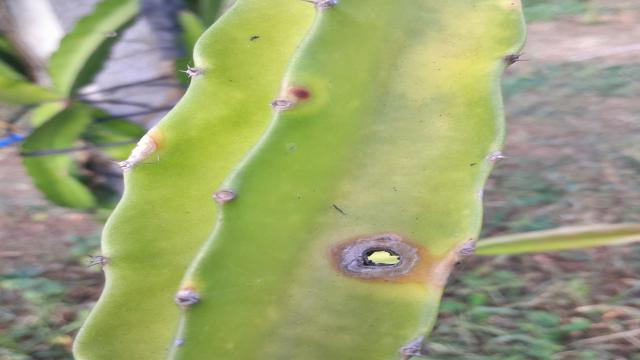stemcanker: (124, 129, 165, 169), (273, 79, 314, 112)
